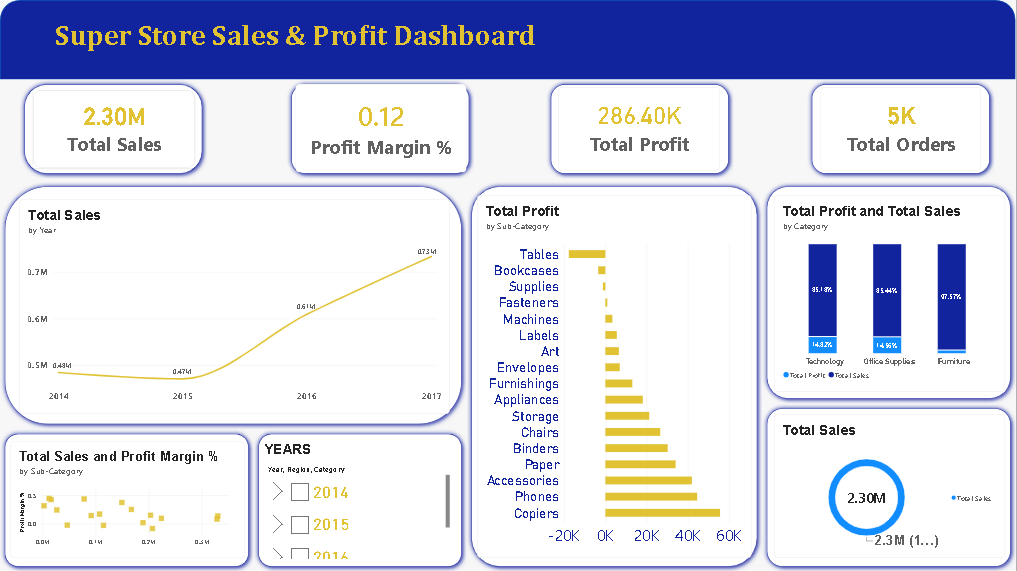

Layout of this report page (visuals, bound fields, positions):
{"tool":"powerbi","page":{"name":"Page 1","canvas":[1920,1080],"ordinal":0},"visuals":[{"type":"shape","box":[0,810.7,479.1,269.3],"z":0},{"type":"shape","box":[1440,762.5,479.1,317.5],"z":1000},{"type":"shape","box":[1440,343,479.1,419.5],"z":2000},{"type":"shape","box":[881.6,343,558.4,737],"z":3000},{"type":"shape","box":[0,343,881.6,467.7],"z":4000},{"type":"shape","box":[1525.1,150.2,354.3,187.1],"z":5000},{"type":"shape","box":[1031.8,150.2,354.3,187.1],"z":6000},{"type":"shape","box":[541.4,150.2,354.3,187.1],"z":7000},{"type":"shape","box":[36.9,150.2,354.3,187.1],"z":8000},{"type":"cardVisual","fields":{"Data":["Sample - Superstore.Total Sales"]},"box":[62.4,170.1,306.1,147.4],"z":9000},{"type":"cardVisual","fields":{"Data":["Sample - Superstore.Total Profit"]},"box":[1054.5,164.4,306.1,158.7],"z":10000},{"type":"cardVisual","fields":{"Data":["Sample - Superstore.Profit Margin %"]},"box":[558.4,158.7,323.2,167.2],"z":11000},{"type":"cardVisual","fields":{"Data":["Sample - Superstore.Total Orders"]},"box":[1550.6,164.4,303.3,158.7],"z":12000},{"type":"lineChart","fields":{"Category":["Sample - Superstore.Order Date.Variation.Date Hierarchy.Year","Sample - Superstore.Order Date.Variation.Date Hierarchy.Quarter","Sample - Superstore.Order Date.Variation.Date Hierarchy.Month","Sample - Superstore.Order Date.Variation.Date Hierarchy.Day"],"Y":["Sample - Superstore.Total Sales"]},"box":[36.9,377,813.5,405.4],"z":13000},{"type":"shape","box":[0,0,1919.1,150.2],"z":14000},{"type":"textbox","box":[62.4,34,1145.2,82.2],"z":15000},{"type":"clusteredBarChart","fields":{"Category":["Sample - Superstore.Sub-Category"],"Y":["Sample - Superstore.Total Profit"]},"box":[901.4,368.5,518.7,686],"z":16000},{"type":"clusteredColumnChart","fields":{"Category":["Sample - Superstore.Category"],"Y":["Sample - Superstore.Total Profit","Sample - Superstore.Total Sales"]},"box":[1462.7,368.5,436.5,371.3],"z":17000},{"type":"donutChart","fields":{"Y":["Sample - Superstore.Total Sales"]},"box":[1462.7,782.4,436.5,272.1],"z":18000},{"type":"scatterChart","fields":{"Category":["Sample - Superstore.Sub-Category"],"X":["Sample - Superstore.Total Sales"],"Y":["Sample - Superstore.Profit Margin %"]},"box":[19.8,833.4,442.2,221.1],"z":19000},{"type":"shape","box":[479.1,810.7,402.5,269.3],"z":19001},{"type":"slicer","title":"YEARS","fields":{"Values":["Sample - Superstore.Order Date.Variation.Date Hierarchy.Year","Sample - Superstore.Region","Sample - Superstore.Category"]},"box":[498.9,833.4,351.5,221.1],"z":19002}]}

Visuals, with their boxes in screenshot pixels (x1, y1, x2, y2), scaled from the page's 1920x1080 canvas onto the 1017x571 screenshot:
shape: locate(0, 429, 254, 570)
shape: locate(763, 403, 1016, 570)
shape: locate(763, 181, 1016, 403)
shape: locate(467, 181, 763, 570)
shape: locate(0, 181, 467, 429)
shape: locate(808, 79, 995, 178)
shape: locate(547, 79, 734, 178)
shape: locate(287, 79, 474, 178)
shape: locate(20, 79, 207, 178)
cardVisual - Sample - Superstore.Total Sales: locate(33, 90, 195, 168)
cardVisual - Sample - Superstore.Total Profit: locate(559, 87, 721, 171)
cardVisual - Sample - Superstore.Profit Margin %: locate(296, 84, 467, 172)
cardVisual - Sample - Superstore.Total Orders: locate(821, 87, 982, 171)
lineChart - Sample - Superstore.Order Date.Variation.Date Hierarchy.Year x Sample - Superstore.Order Date.Variation.Date Hierarchy.Quarter: locate(20, 199, 450, 414)
shape: locate(0, 0, 1016, 79)
textbox: locate(33, 18, 640, 61)
clusteredBarChart - Sample - Superstore.Sub-Category x Sample - Superstore.Total Profit: locate(477, 195, 752, 558)
clusteredColumnChart - Sample - Superstore.Category x Sample - Superstore.Total Profit: locate(775, 195, 1006, 391)
donutChart - Sample - Superstore.Total Sales: locate(775, 414, 1006, 558)
scatterChart - Sample - Superstore.Sub-Category x Sample - Superstore.Total Sales: locate(10, 441, 245, 558)
shape: locate(254, 429, 467, 570)
"YEARS" slicer: locate(264, 441, 450, 558)
